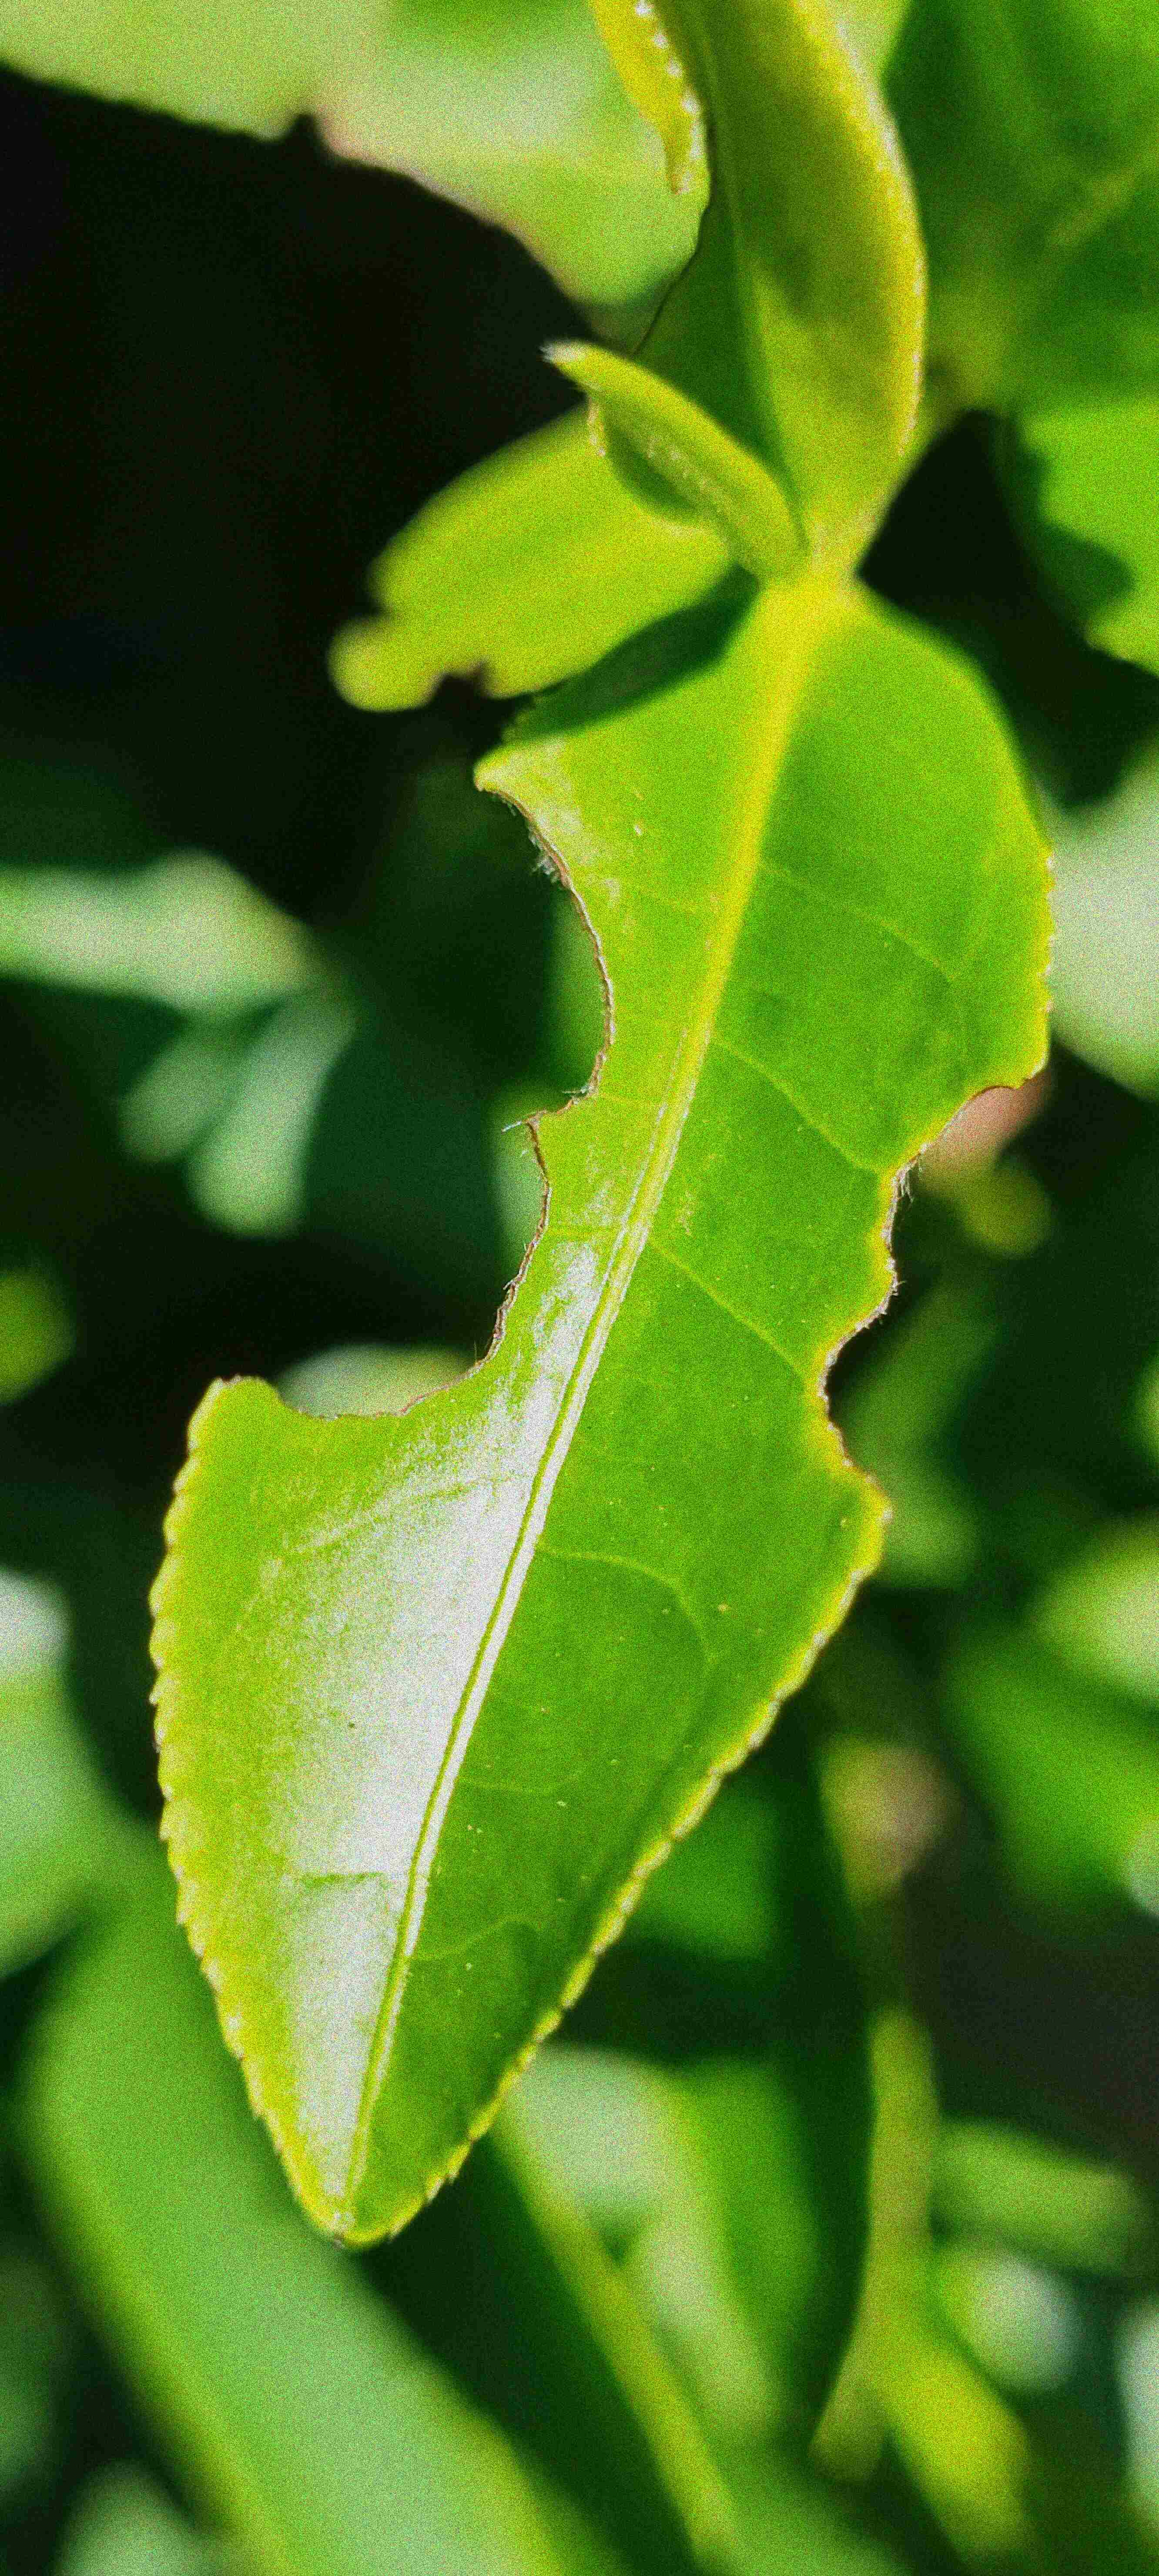chihuo_high: (131, 595, 1059, 2249)
